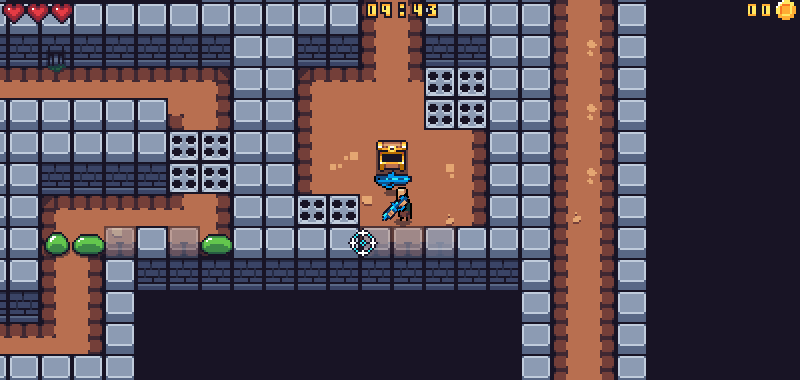enemy_slug: (196, 231, 236, 260), (69, 232, 108, 259), (40, 229, 72, 257)
trap_off: (167, 130, 233, 194), (424, 67, 487, 130), (295, 194, 360, 226)
treasury_open: (374, 136, 410, 176)
